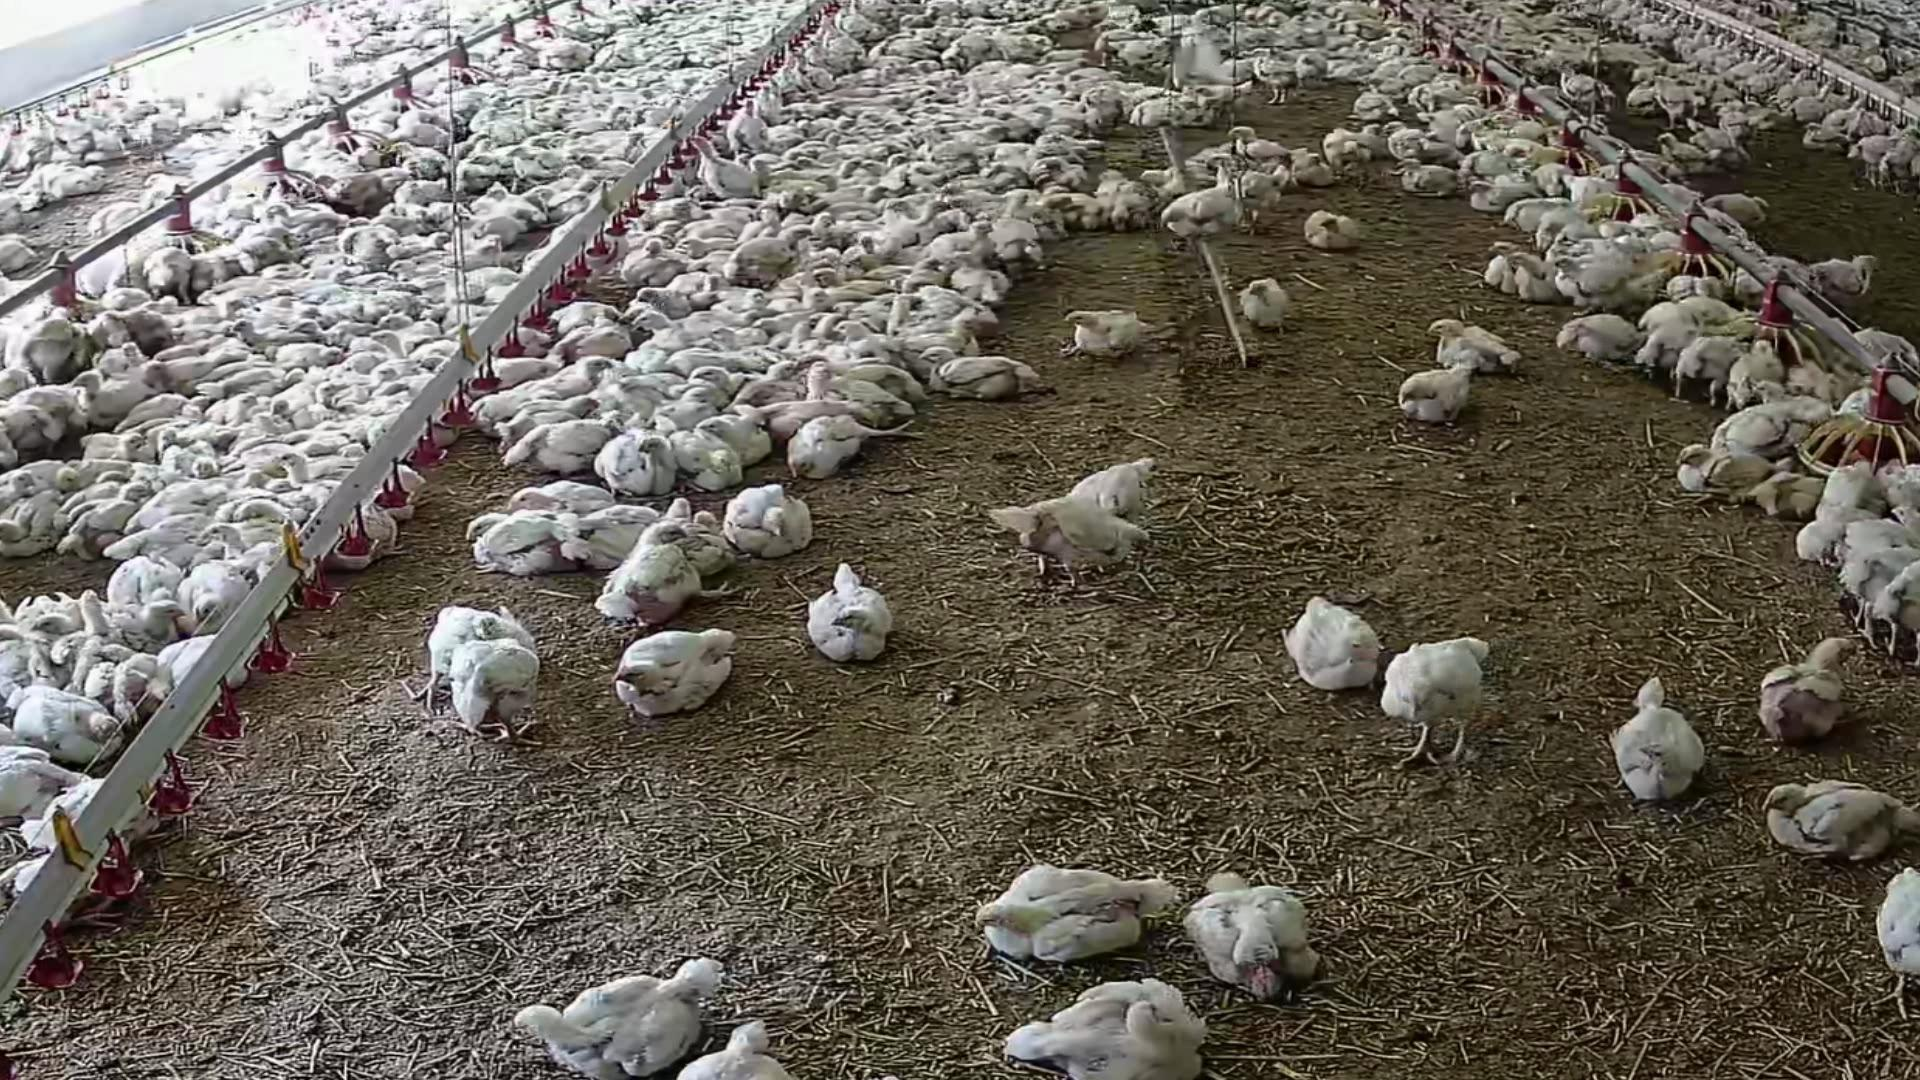poussin: (488, 957, 723, 1080), (955, 855, 1182, 963), (986, 973, 1209, 1080), (1592, 671, 1721, 827), (1183, 877, 1340, 1005), (1393, 646, 1520, 774), (1759, 767, 1920, 862), (992, 505, 1167, 588), (1750, 634, 1867, 750), (608, 636, 757, 715), (795, 560, 898, 658), (613, 526, 707, 629), (4, 680, 124, 760), (454, 636, 542, 737), (1283, 603, 1386, 690), (468, 506, 585, 580), (1015, 454, 1175, 505), (923, 349, 1047, 409), (1555, 251, 1662, 315), (430, 596, 534, 659), (1396, 357, 1482, 434), (66, 481, 149, 559), (728, 485, 815, 559), (429, 595, 525, 659), (1429, 310, 1523, 376), (1876, 869, 1920, 1010), (1676, 440, 1788, 493), (778, 419, 882, 476), (1211, 149, 1288, 224), (1838, 517, 1896, 617), (1062, 303, 1153, 367), (811, 364, 911, 419), (727, 225, 814, 287), (1098, 170, 1187, 229), (591, 434, 674, 496), (1320, 123, 1389, 195), (901, 316, 993, 368), (687, 135, 761, 196), (695, 1038, 803, 1080), (1854, 131, 1920, 199), (1556, 310, 1640, 363), (497, 423, 593, 469), (1720, 400, 1826, 440), (671, 430, 746, 488), (1233, 273, 1302, 335), (914, 285, 1004, 331), (1553, 61, 1622, 119), (1854, 545, 1904, 620), (29, 302, 73, 386), (315, 166, 397, 211), (1164, 195, 1236, 247), (270, 194, 345, 241), (1880, 563, 1920, 651), (1656, 128, 1722, 181), (74, 368, 149, 414), (626, 305, 705, 348), (501, 481, 615, 512), (199, 524, 272, 570), (3, 492, 54, 556), (1300, 204, 1367, 253), (1818, 251, 1880, 302), (932, 219, 1001, 265), (1684, 340, 1735, 401), (574, 502, 698, 527), (702, 414, 769, 459), (476, 182, 543, 227), (1730, 334, 1778, 397), (911, 125, 989, 164), (1643, 301, 1680, 381), (144, 245, 196, 301), (436, 269, 514, 306), (1708, 187, 1778, 228), (563, 314, 629, 356), (1654, 75, 1706, 128), (1383, 119, 1451, 160), (1505, 198, 1576, 236), (1254, 55, 1303, 111), (363, 501, 411, 556), (1476, 233, 1511, 309), (74, 583, 116, 646), (1001, 219, 1047, 276), (1399, 157, 1461, 199), (46, 156, 112, 195), (156, 480, 225, 517), (185, 560, 223, 628), (884, 191, 961, 223), (1232, 120, 1288, 162), (1878, 458, 1920, 514), (232, 488, 294, 526), (472, 150, 550, 181), (835, 320, 898, 357), (692, 509, 728, 574), (628, 240, 683, 281), (1817, 456, 1863, 505), (625, 284, 699, 314), (115, 604, 185, 636), (1346, 80, 1402, 119), (1513, 248, 1548, 307), (815, 266, 887, 295), (666, 198, 744, 224), (92, 637, 148, 674), (513, 396, 604, 418), (273, 447, 326, 485), (732, 99, 767, 154), (1033, 157, 1089, 191), (1291, 141, 1331, 190), (1468, 179, 1536, 207), (153, 520, 199, 559), (473, 389, 512, 436), (236, 320, 324, 340), (86, 434, 152, 460), (266, 343, 348, 364), (1134, 95, 1172, 140), (1568, 169, 1615, 204), (647, 400, 705, 427), (1800, 120, 1845, 154), (273, 378, 311, 418), (1052, 103, 1106, 131), (679, 229, 731, 258), (54, 633, 90, 673), (811, 210, 848, 247), (170, 322, 231, 344), (559, 363, 626, 382), (365, 331, 421, 355), (1033, 131, 1104, 149), (712, 323, 764, 348), (855, 232, 897, 262), (1295, 51, 1329, 88), (30, 612, 79, 637), (1490, 117, 1545, 138), (981, 161, 1027, 186), (732, 289, 766, 322), (1890, 506, 1919, 545), (770, 291, 832, 309), (316, 256, 369, 276), (376, 309, 422, 331), (1749, 375, 1789, 400), (99, 343, 149, 363), (690, 367, 742, 385), (785, 319, 811, 356), (137, 357, 167, 389), (228, 394, 261, 423), (315, 377, 339, 417), (785, 99, 839, 116), (684, 385, 725, 406), (794, 132, 844, 149), (161, 426, 208, 443), (775, 186, 807, 211), (833, 149, 862, 175), (9, 469, 40, 493), (388, 258, 421, 278), (190, 456, 219, 477), (661, 380, 691, 400), (58, 468, 83, 492), (769, 363, 800, 381), (862, 157, 893, 175), (796, 154, 831, 170), (812, 171, 839, 191), (1655, 232, 1687, 248), (431, 228, 454, 249), (861, 109, 886, 127), (832, 115, 858, 131), (484, 235, 506, 253), (376, 367, 401, 382), (339, 368, 365, 380), (885, 120, 910, 132)
